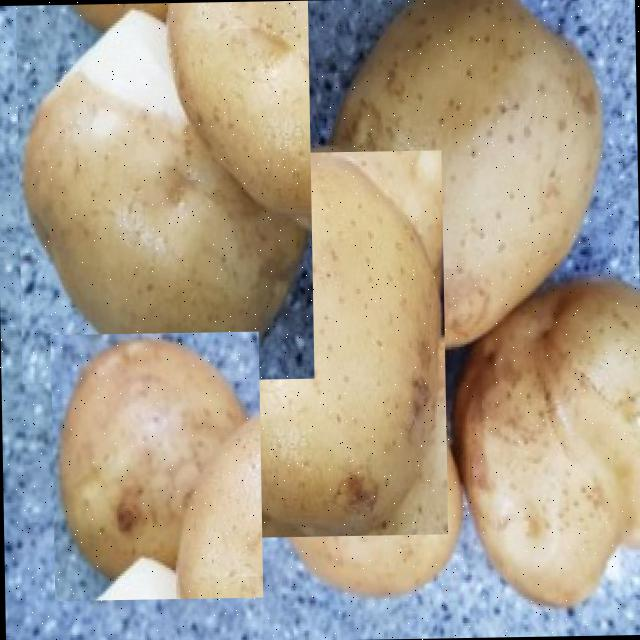Potato: (15, 0, 314, 383), (161, 150, 448, 539), (323, 0, 611, 362), (446, 274, 640, 618), (50, 331, 263, 601), (274, 380, 468, 602)
